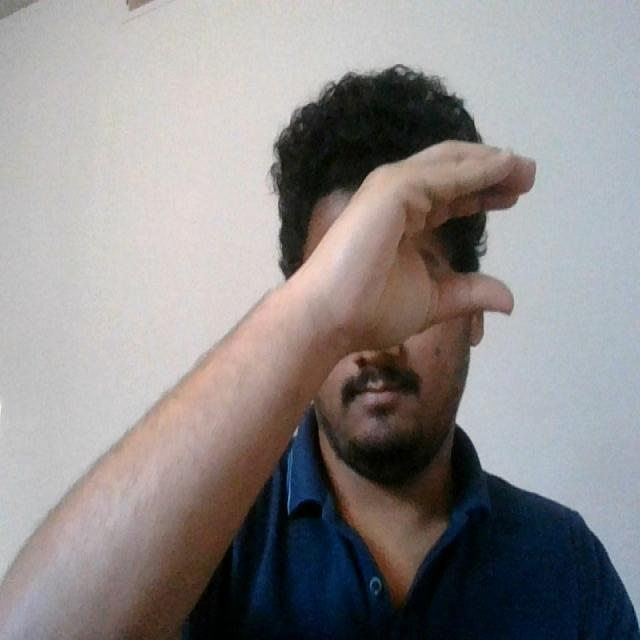No: (295, 131, 554, 364)
